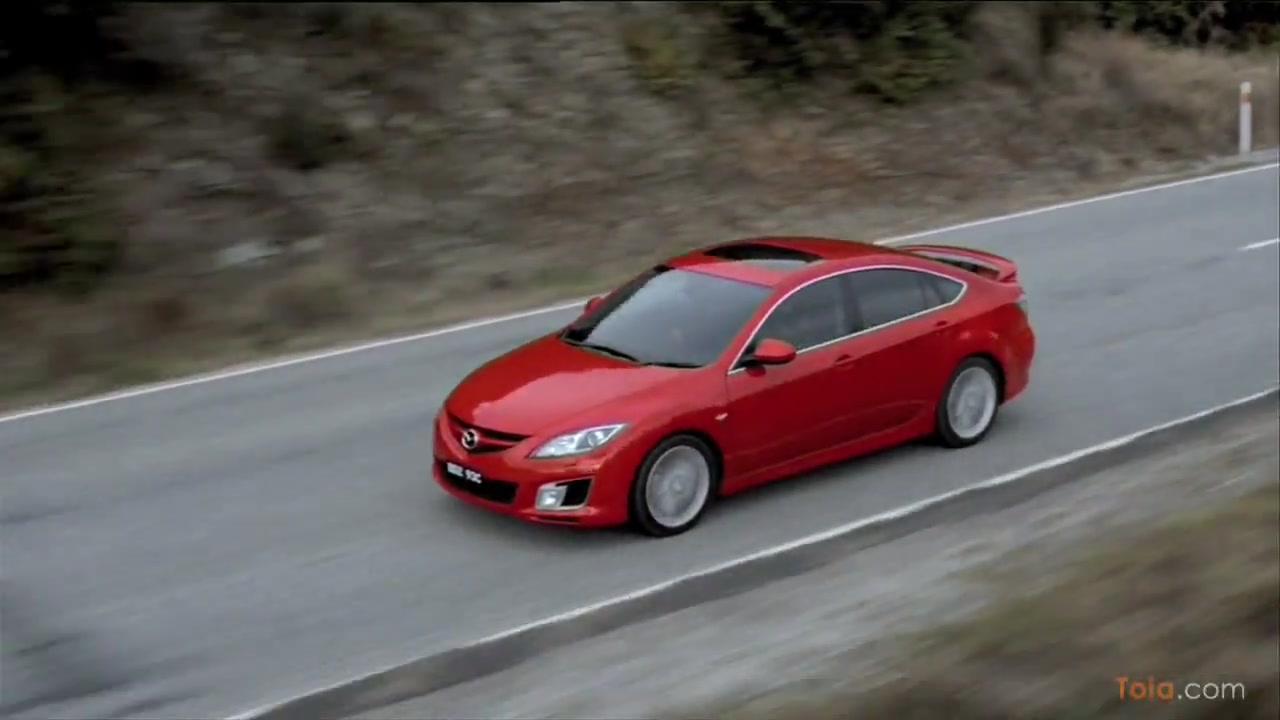car: (426, 234, 1040, 541)
